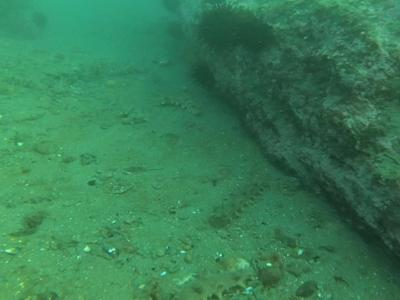holothurian: (208, 178, 274, 233), (162, 262, 249, 296), (160, 95, 200, 116)
urchin: (196, 5, 239, 48), (235, 11, 275, 55), (190, 64, 223, 91)
